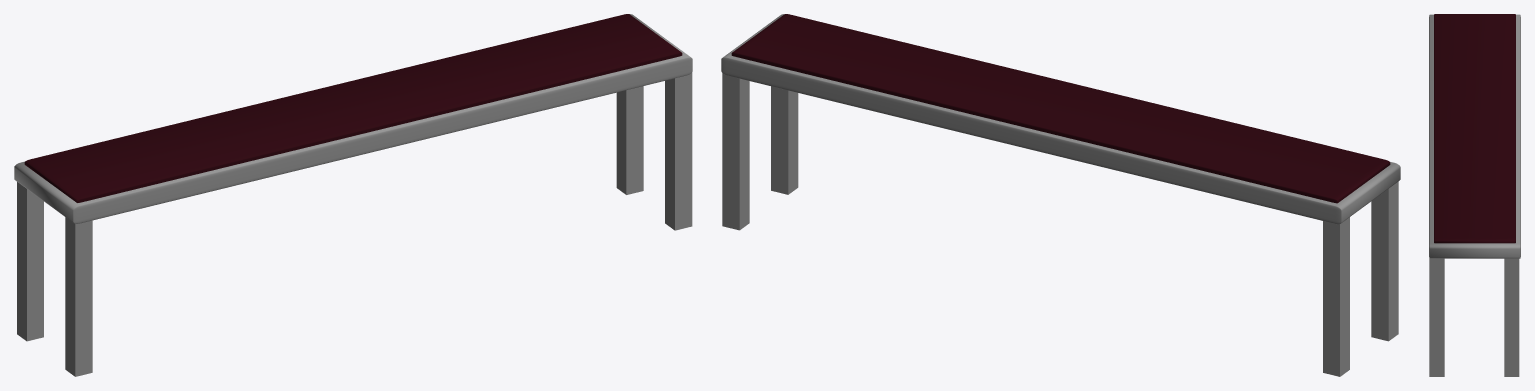
Rendered from Bar-bench.fbx.
The picture shows the model from 3 angles, left to right: view 1: azimuth 30°, elevation 25°; view 2: azimuth 150°, elevation 25°; view 3: azimuth 270°, elevation 25°; orthographic projection. The views are drawn at different scales.
Parts seen in each view (by area): view 1: Cube.010, Cube.005, Cube.007, Cube.009, Cube.006, Cube.008; view 2: Cube.010, Cube.005, Cube.008, Cube.007, Cube.006, Cube.009; view 3: Cube.010, Cube.005, Cube.008, Cube.009.
Part boxes in pixels (x1,y1,x2,y2): Cube.010: [24, 14, 682, 202]; Cube.005: [14, 14, 692, 223]; Cube.007: [65, 217, 92, 376]; Cube.009: [665, 72, 692, 230]; Cube.006: [17, 182, 43, 341]; Cube.008: [616, 86, 643, 194]; Cube.010: [731, 14, 1390, 203]; Cube.005: [721, 14, 1400, 224]; Cube.008: [722, 73, 749, 230]; Cube.007: [1371, 181, 1398, 341]; Cube.006: [1323, 217, 1349, 376]; Cube.009: [771, 86, 798, 194]; Cube.010: [1434, 14, 1515, 243]; Cube.005: [1429, 14, 1520, 258]; Cube.008: [1504, 258, 1519, 376]; Cube.009: [1429, 258, 1444, 376].
Size of the model in its own units: 180 by 48.31 by 30.
